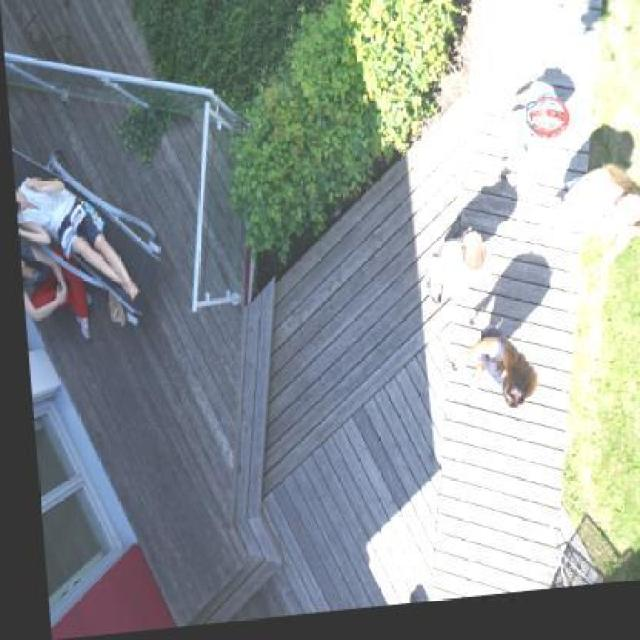Person: (11, 170, 147, 318), (534, 172, 638, 296), (15, 231, 104, 349), (434, 334, 538, 429), (476, 85, 556, 206), (412, 235, 486, 319)
